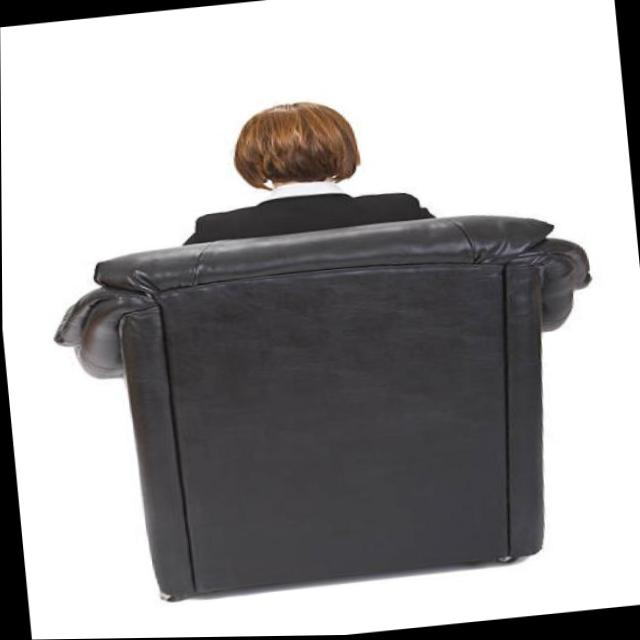no helmet: (221, 96, 366, 195)
